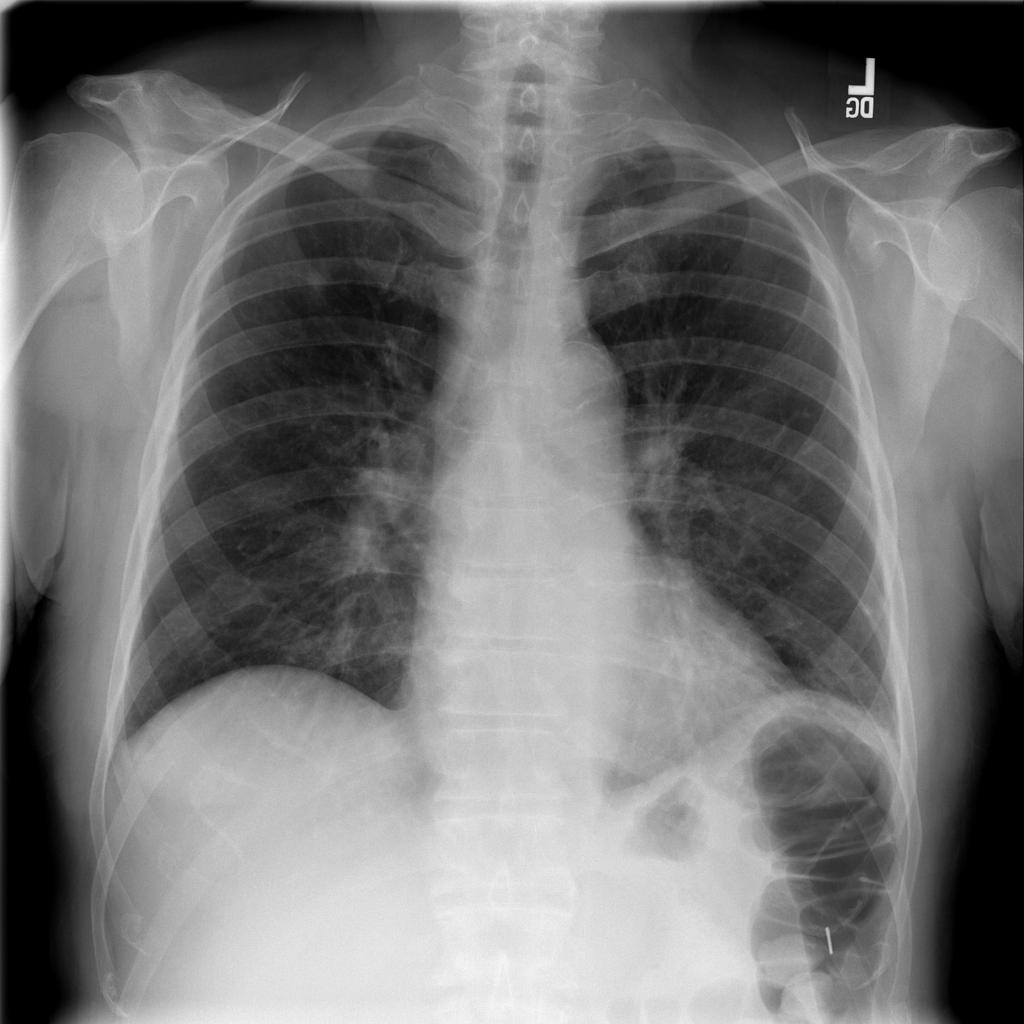nodule: (743, 919, 851, 1016), (291, 255, 342, 306)
